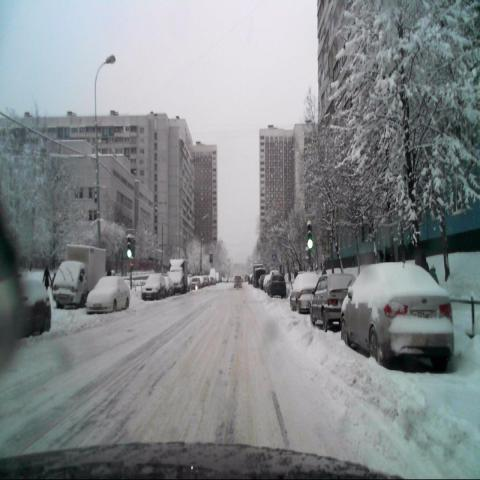6_16: (303, 210, 317, 222)
